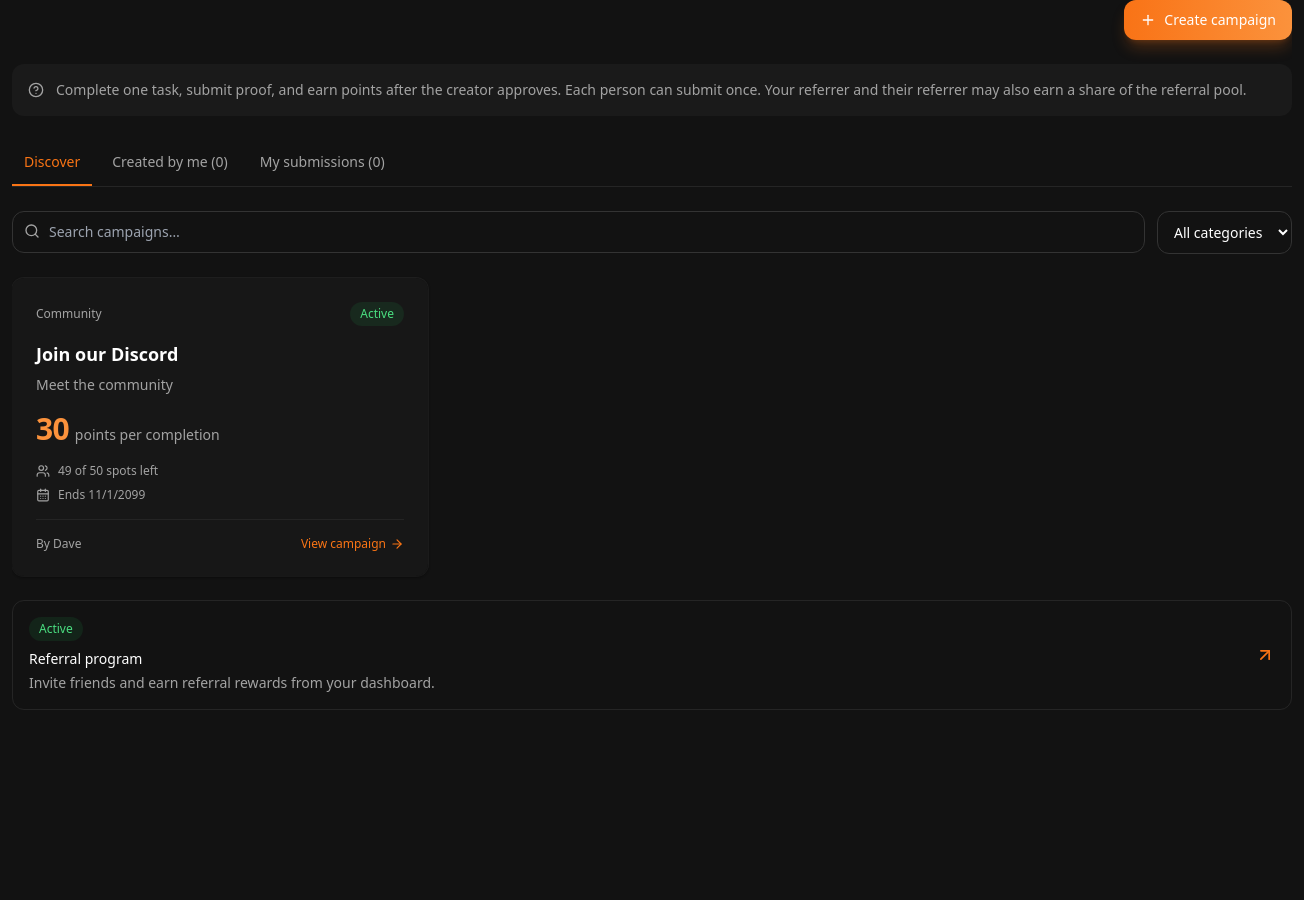
Test case: filters campaigns and directs the built-in campaign to the existing referral dashboard
Expected: the heading "Join our Discord" is shown, x1=36 y1=342 x2=178 y2=366
Select "Social media" in the dropdown named "Filter by category" at (1224, 232), box x1=1157 y1=211 x2=1292 y2=254
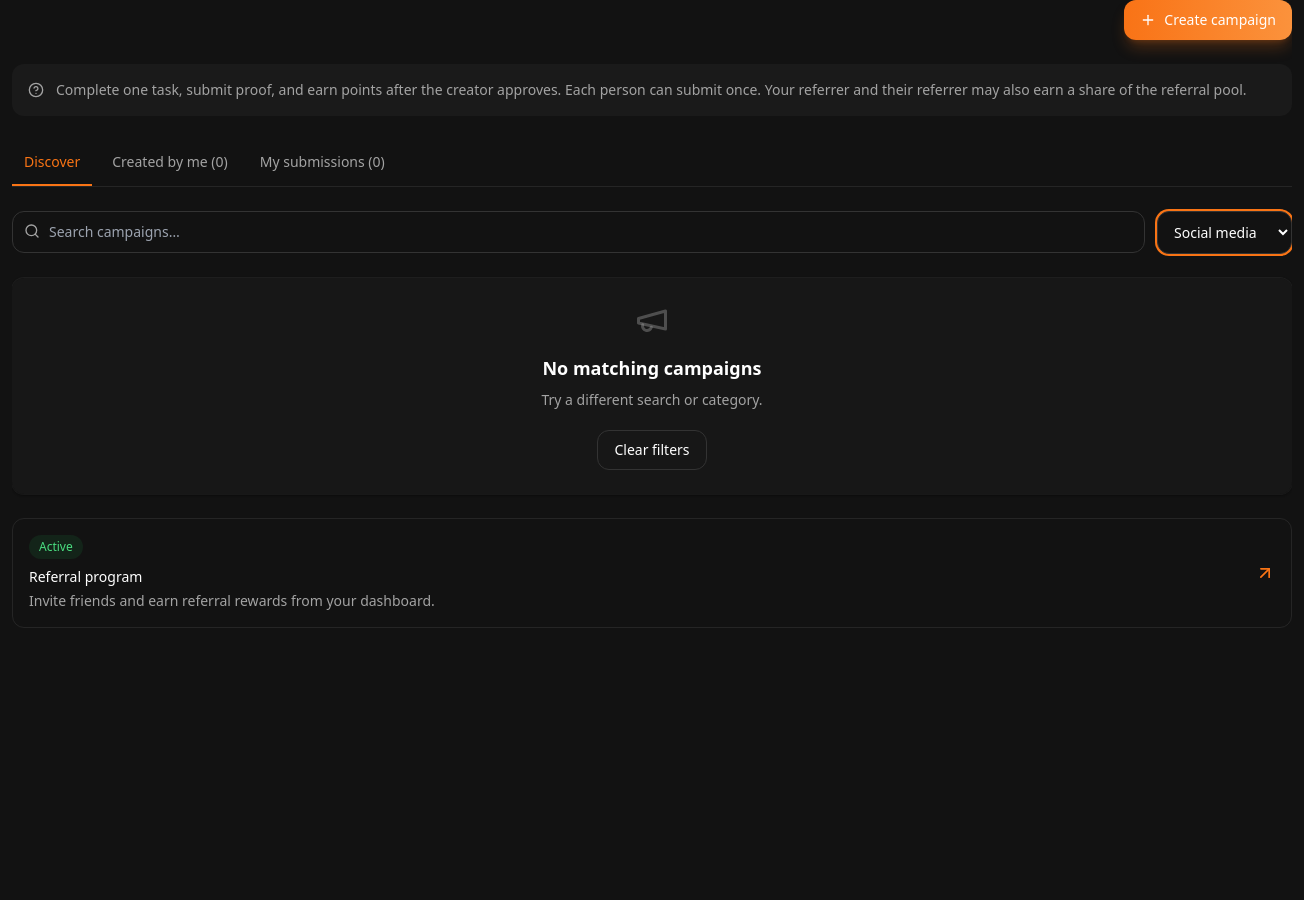
Expected: the heading "No matching campaigns" is shown, x1=542 y1=356 x2=762 y2=380
Click the button "Clear filters" at (652, 450), box x1=597 y1=430 x2=706 y2=470
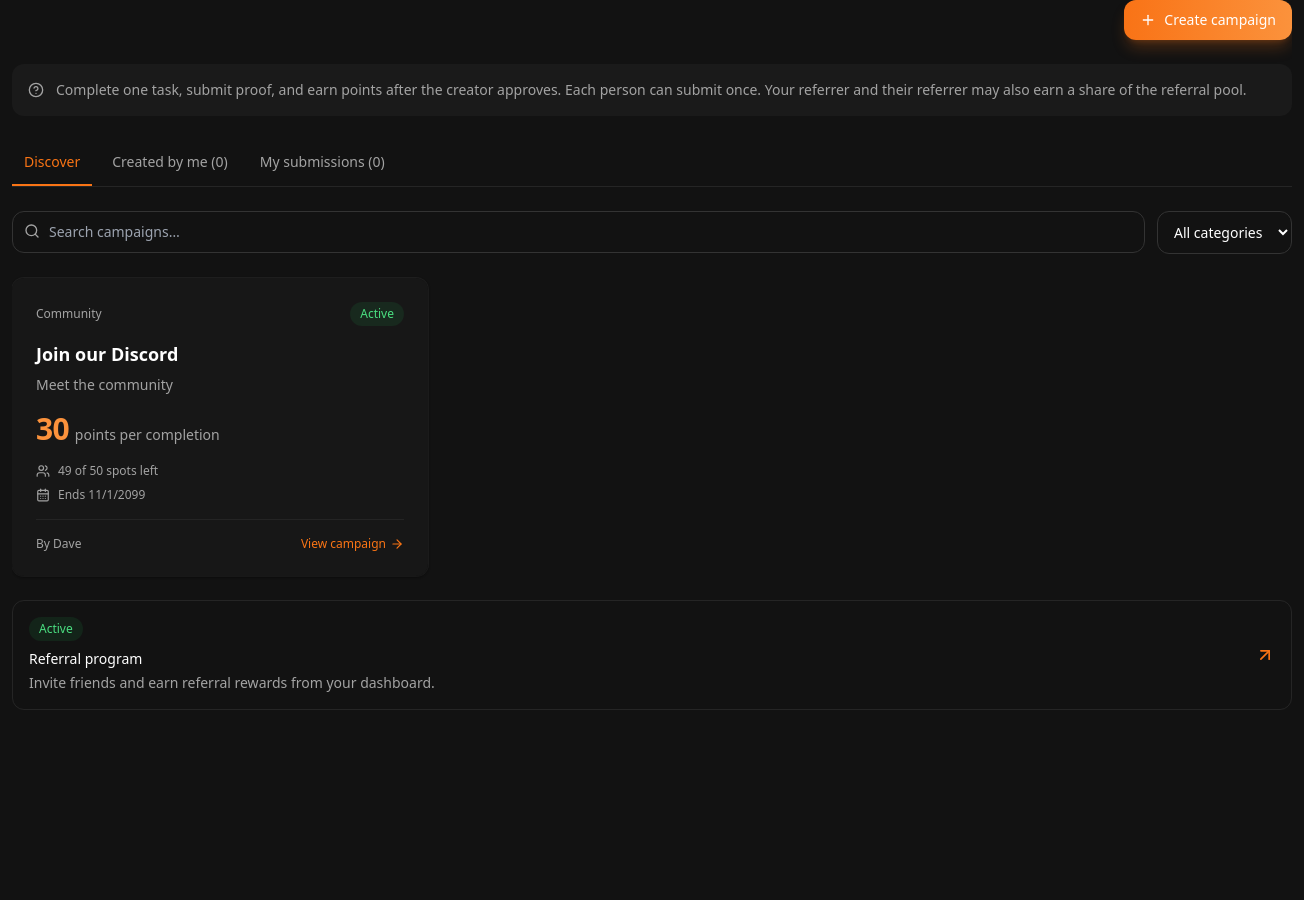
Expected: the heading "Join our Discord" is shown, x1=36 y1=342 x2=178 y2=366
